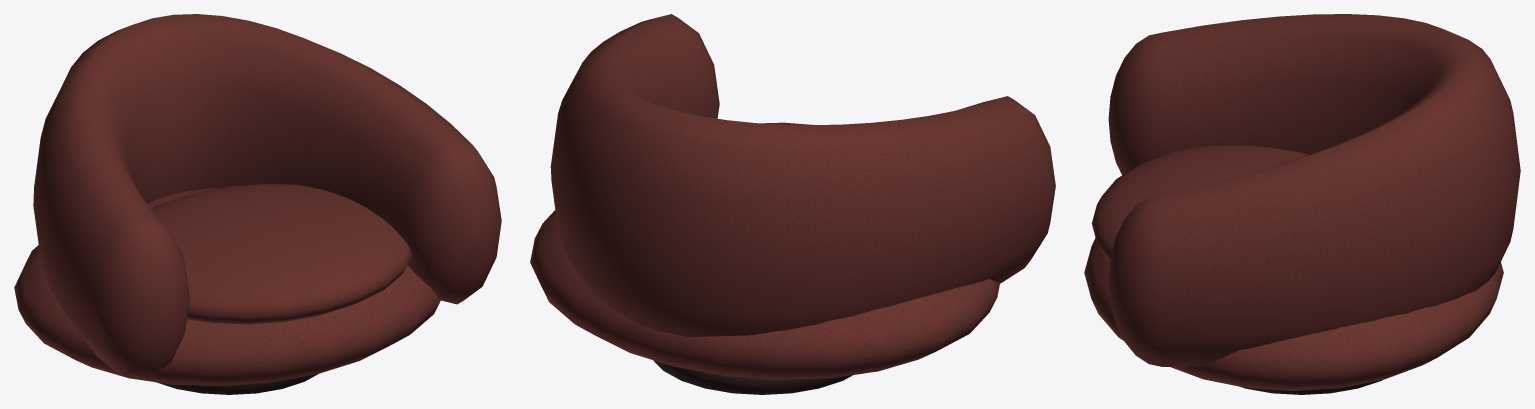
The model's file is sofa.glb.
The picture shows the model from 3 angles, left to right: view 1: azimuth 30°, elevation 25°; view 2: azimuth 150°, elevation 25°; view 3: azimuth 270°, elevation 25°; orthographic projection. The views are drawn at different scales.
Parts seen in each view (by area): view 1: Continuous curved back and arms, Wide low seat cushion, Deep upholstered base, Hidden base; view 2: Continuous curved back and arms, Deep upholstered base, Hidden base; view 3: Continuous curved back and arms, Deep upholstered base, Wide low seat cushion, Hidden base.
Boxes of the visible parts, x1,y1,x2,y2 form: Continuous curved back and arms: (33,14,501,380); Wide low seat cushion: (151,183,412,324); Deep upholstered base: (14,188,441,386); Hidden base: (156,374,317,394); Continuous curved back and arms: (550,14,1055,337); Deep upholstered base: (530,210,999,379); Hidden base: (653,360,852,394); Continuous curved back and arms: (1108,14,1520,366); Deep upholstered base: (1084,238,1503,390); Wide low seat cushion: (1091,145,1308,260); Hidden base: (1240,380,1382,394).
Bounding box in the file's own units: 1.31 × 0.86 × 1.16.
Materials: 2 (2 with a texture image).
